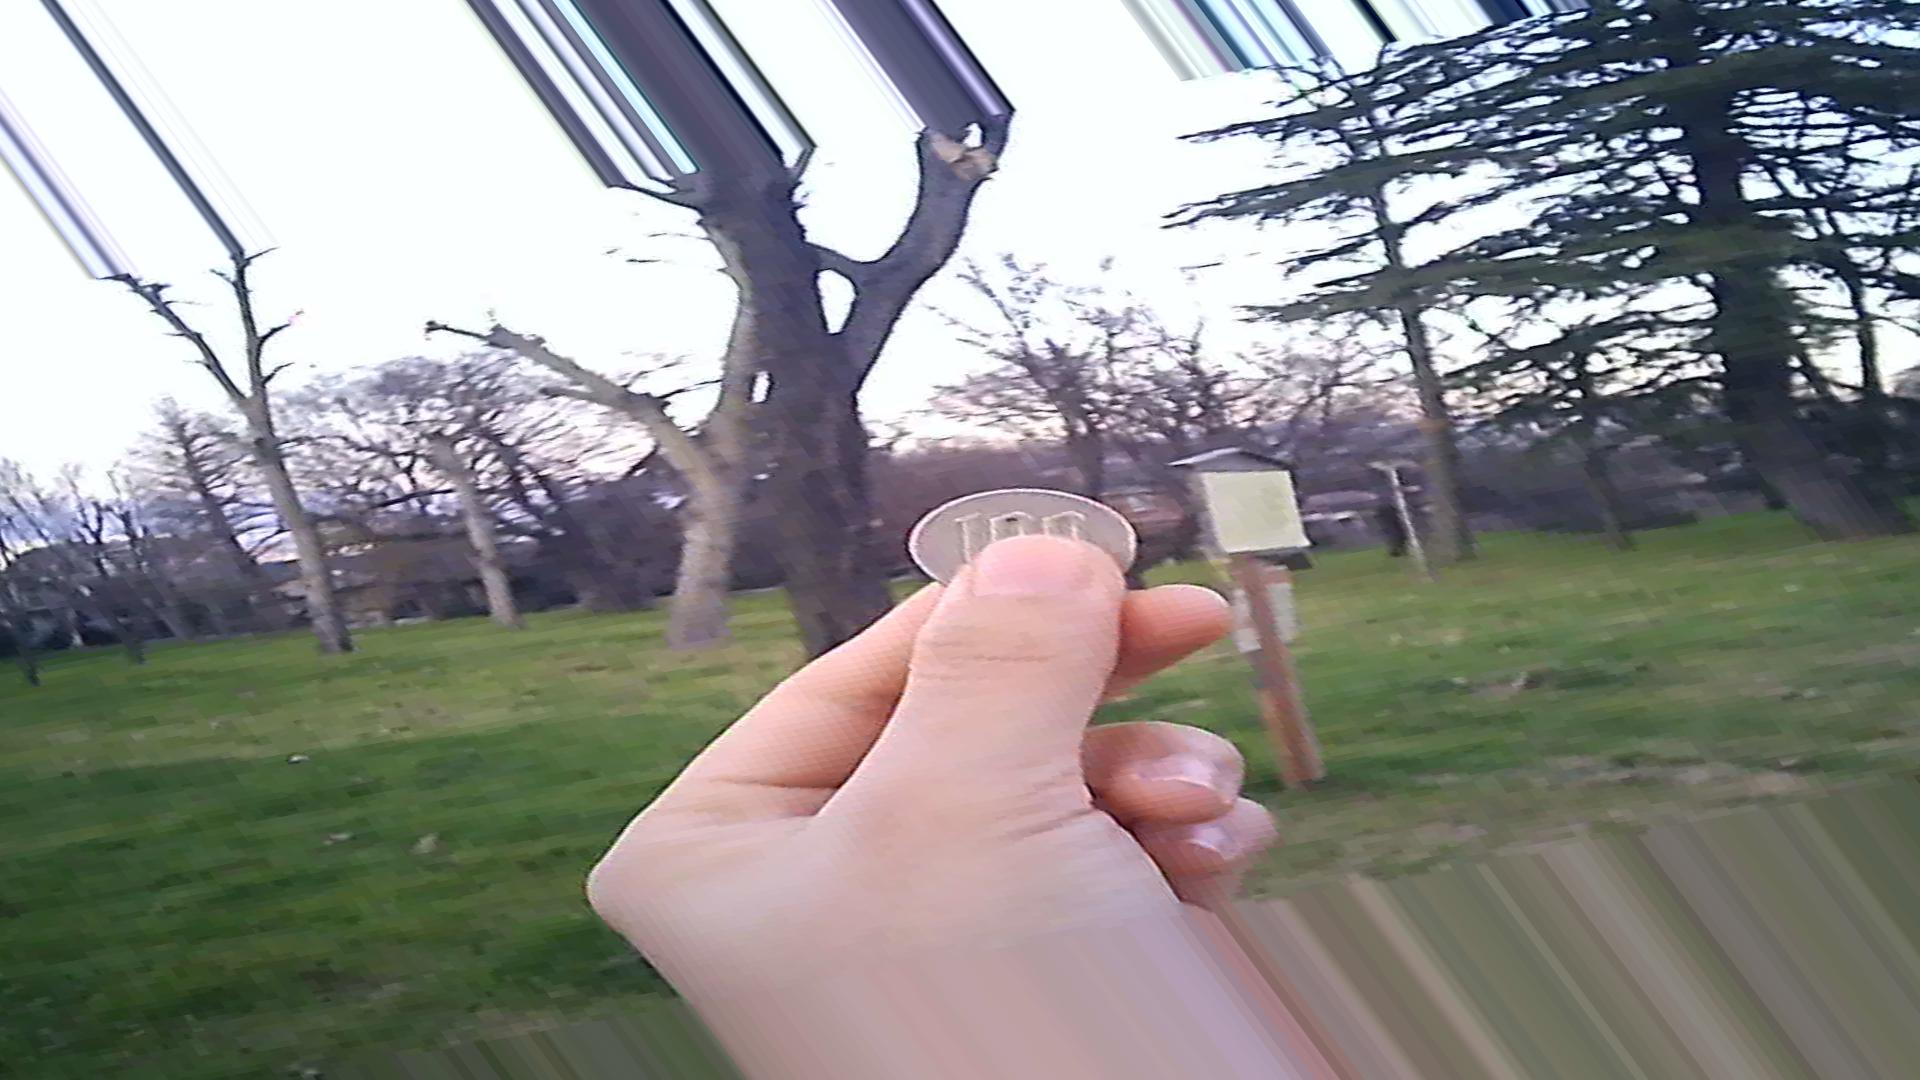100 Yen: (895, 480, 1145, 591)
